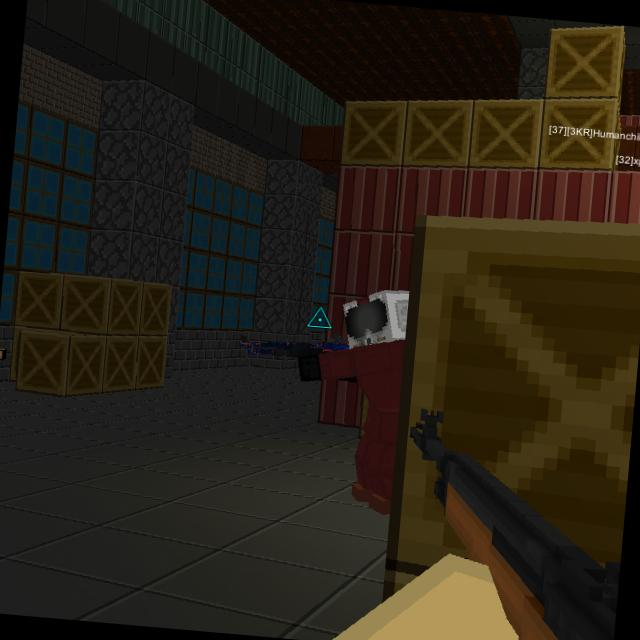enemy: (278, 278, 419, 519)
